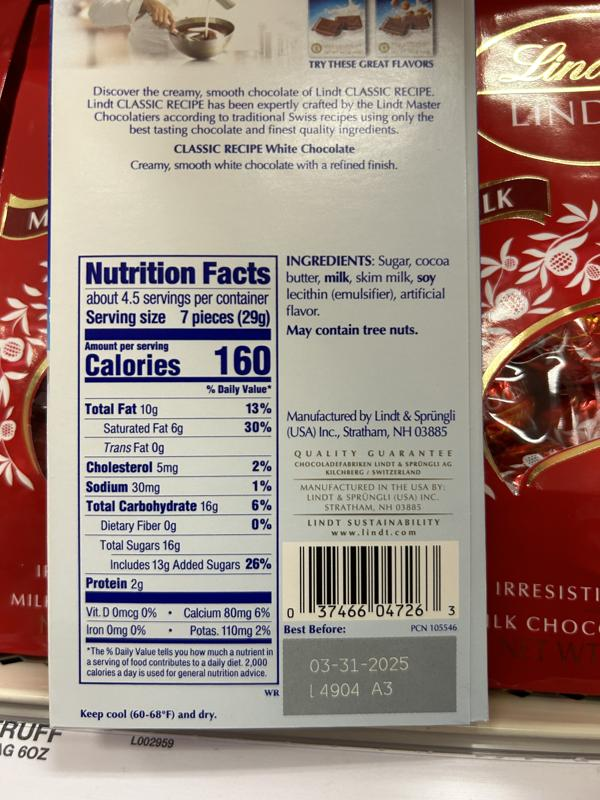ingredients: (284, 252, 452, 320)
